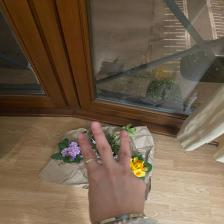five: (66, 119, 153, 217)
